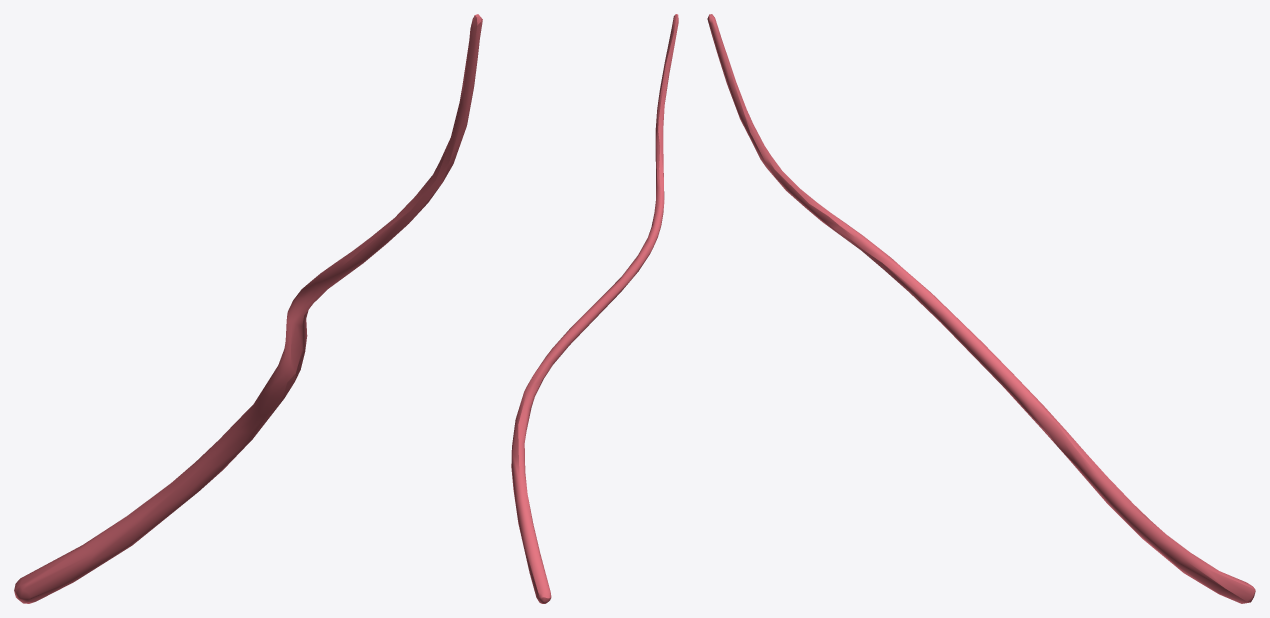
Rendered from fma50026_fj5213.glb.
3 views of the same model, side by side, from view 1: azimuth 30°, elevation 25°; view 2: azimuth 150°, elevation 25°; view 3: azimuth 270°, elevation 25° (orthographic). The views are drawn at different scales.
Parts seen in each view (by area): view 1: FMA50026_FJ5213; view 2: FMA50026_FJ5213; view 3: FMA50026_FJ5213.
Part boxes in pixels (box(x1,y1,x2,y2)): FMA50026_FJ5213: box(14, 14, 482, 603); FMA50026_FJ5213: box(511, 14, 678, 603); FMA50026_FJ5213: box(707, 14, 1255, 603).
Bounding box in the file's own units: 0.00493 × 0.0237 × 0.0188.
